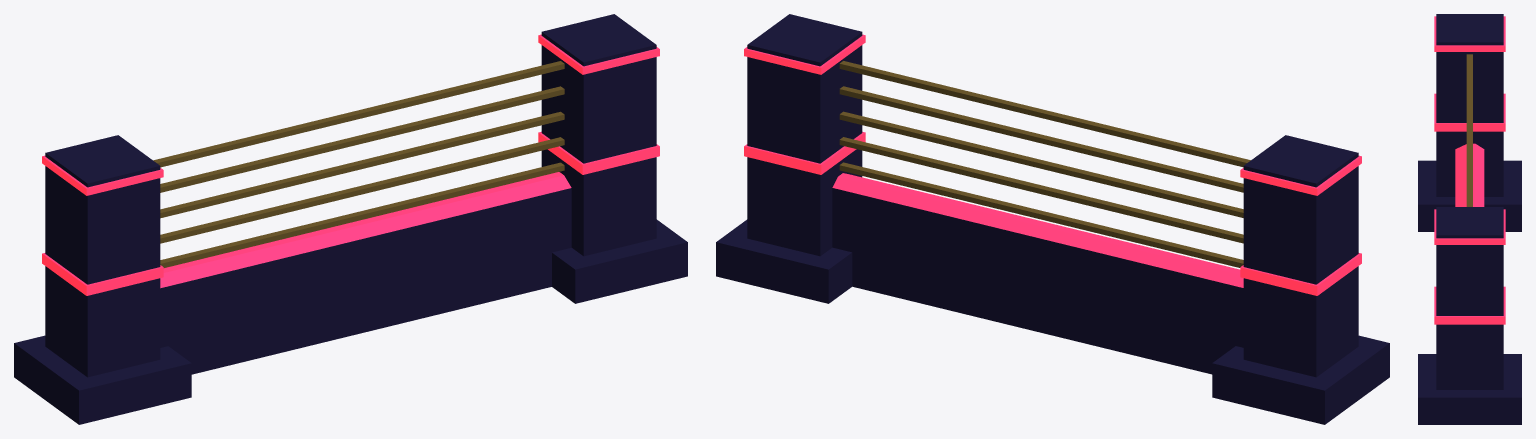
Rendered from Fance.fbx.
3 views of the same model, side by side, from view 1: azimuth 30°, elevation 25°; view 2: azimuth 150°, elevation 25°; view 3: azimuth 270°, elevation 25° (orthographic). The views are drawn at different scales.
Visible parts, largest first — view 1: Road.170; view 2: Road.170; view 3: Road.170.
Part boxes in pixels (x1,y1,x2,y2): Road.170: (14, 14, 687, 424); Road.170: (716, 14, 1389, 424); Road.170: (1418, 14, 1521, 424).
Bounding box in the file's own units: 200 × 71.62 × 37.
